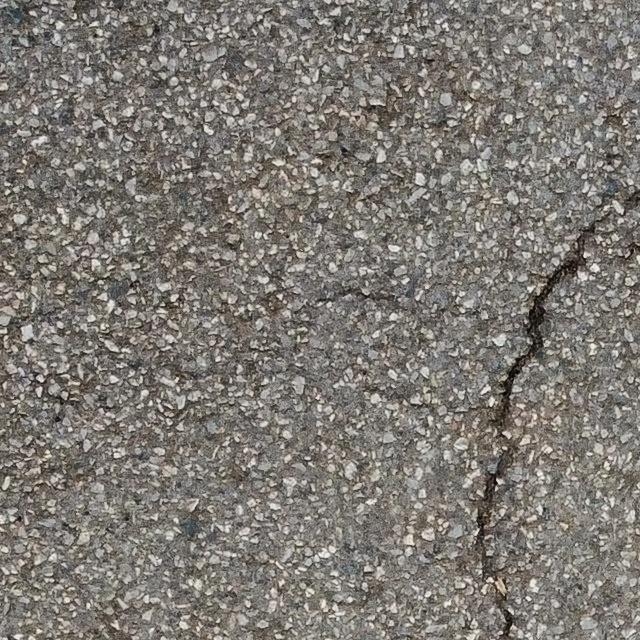LongitudinalCrack: (473, 190, 639, 640)
